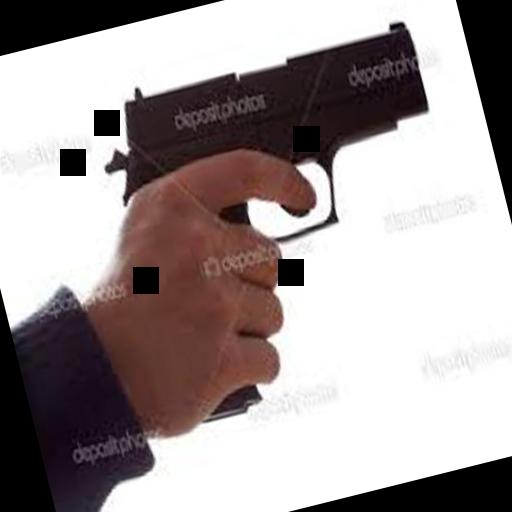Handgun: (79, 4, 499, 437)
